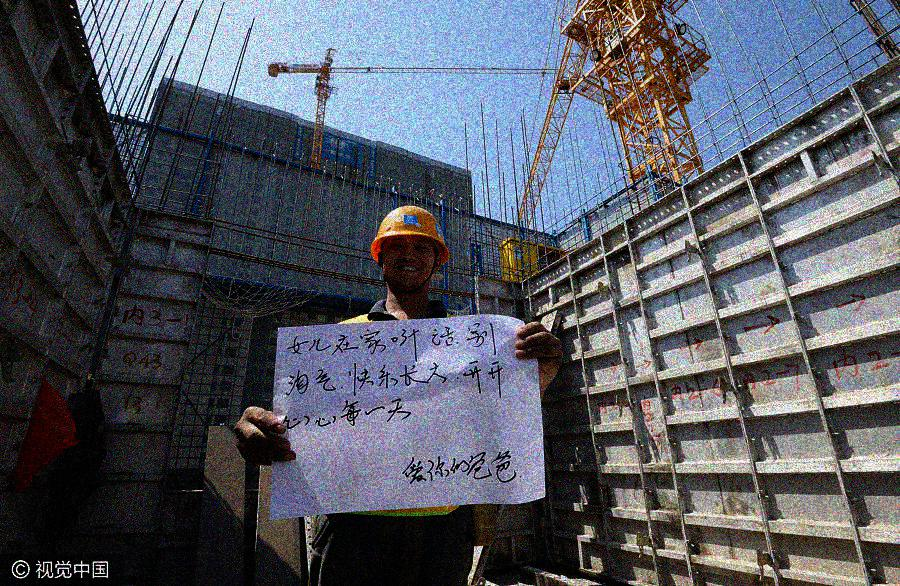helmet: (367, 201, 449, 292)
